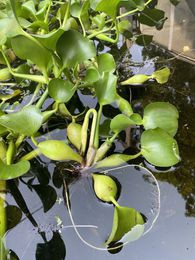water_hyacinth: (1, 0, 180, 249)
